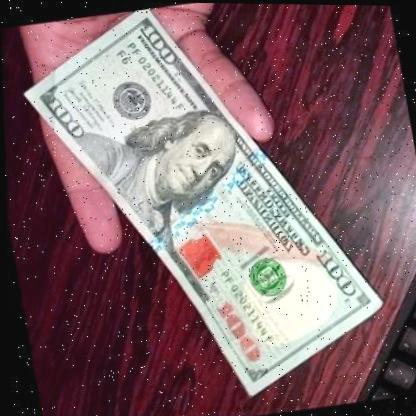one_hundred-front: (7, 0, 398, 416)
